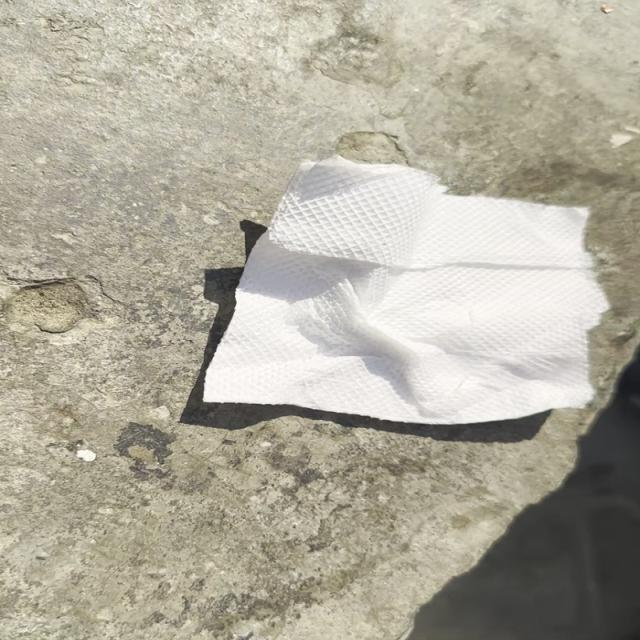tissue: (195, 155, 594, 418)
